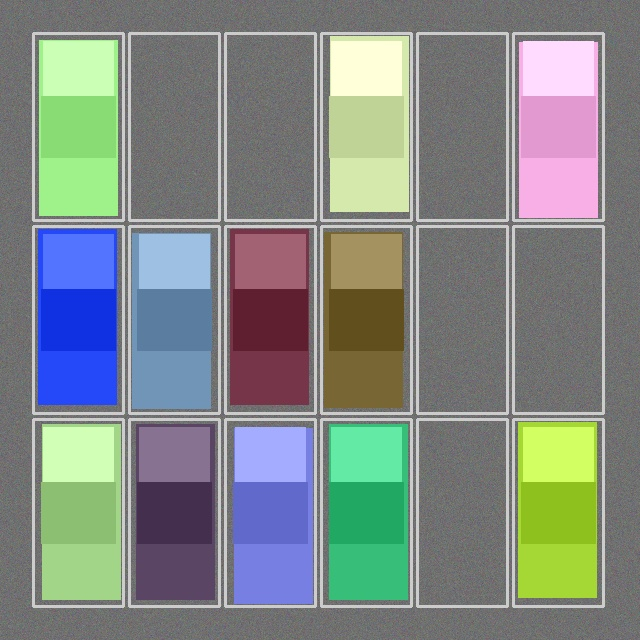space-empty: (131, 35, 217, 218), (227, 35, 313, 218), (419, 35, 505, 218), (419, 228, 505, 411), (515, 228, 601, 411), (419, 421, 505, 604)
space-occupied: (35, 35, 121, 218), (323, 35, 409, 218), (515, 35, 601, 218), (35, 228, 121, 411), (131, 228, 217, 411), (227, 228, 313, 411), (323, 228, 409, 411), (35, 421, 121, 604), (131, 421, 217, 604), (227, 421, 313, 604), (323, 421, 409, 604), (515, 421, 601, 604)
